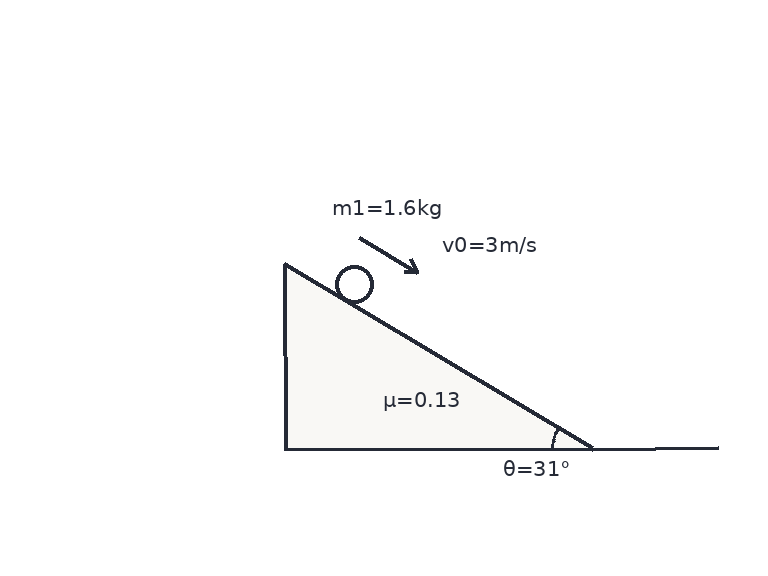ball: (333, 263, 375, 305)
ramp: (282, 262, 594, 451)
